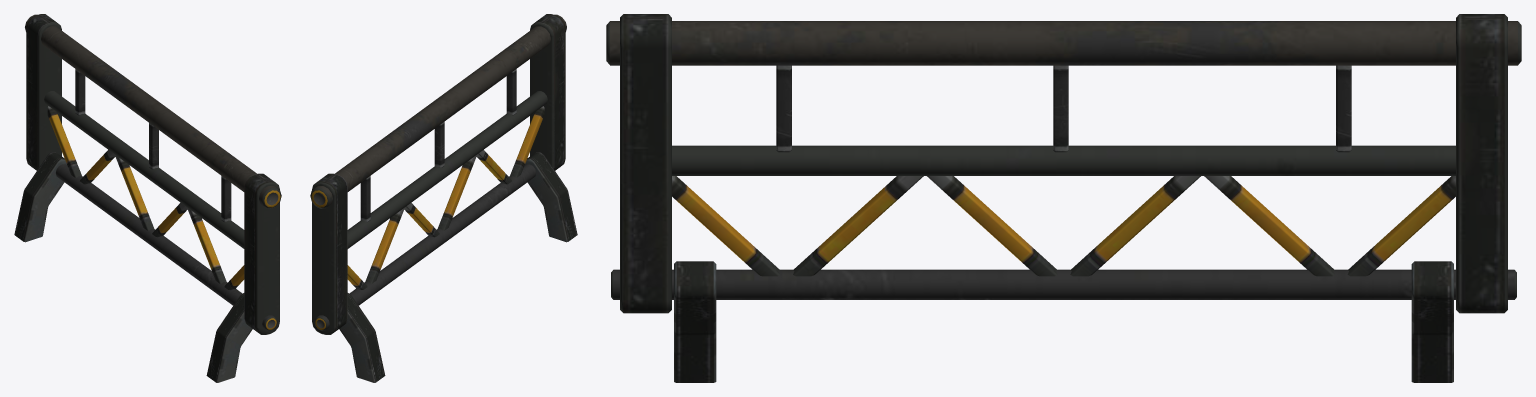
The model's file is Barrier_2m.fbx.
The picture shows the model from 3 angles, left to right: view 1: azimuth 30°, elevation 25°; view 2: azimuth 150°, elevation 25°; view 3: azimuth 270°, elevation 25°; orthographic projection. The views are drawn at different scales.
Visible parts, largest first — view 1: Barrier_2m; view 2: Barrier_2m; view 3: Barrier_2m.
Boxes of the visible parts, left/top/right/bottom form: Barrier_2m: left=14, top=14, right=281, bottom=382; Barrier_2m: left=310, top=14, right=577, bottom=382; Barrier_2m: left=606, top=14, right=1521, bottom=382.
Bounding box in the file's own units: 24.19 × 93.06 × 200.
